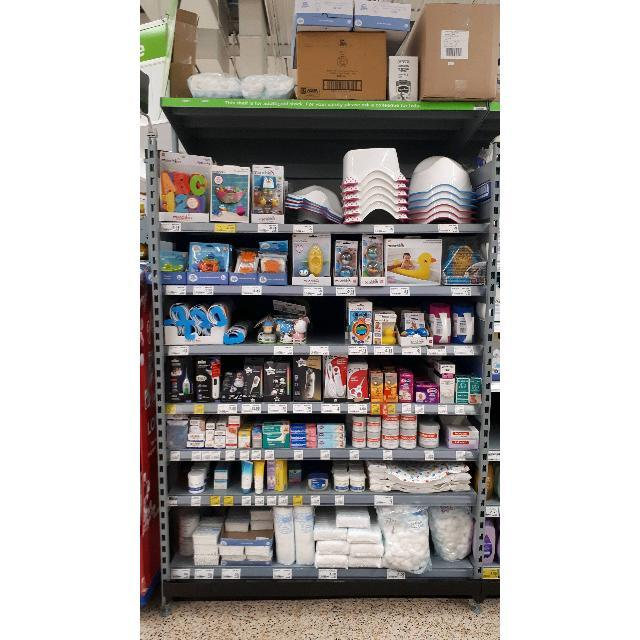empty: (311, 296, 345, 346), (168, 462, 188, 494), (492, 392, 501, 452)
front: (170, 556, 193, 566), (288, 482, 306, 494), (206, 489, 240, 495)
